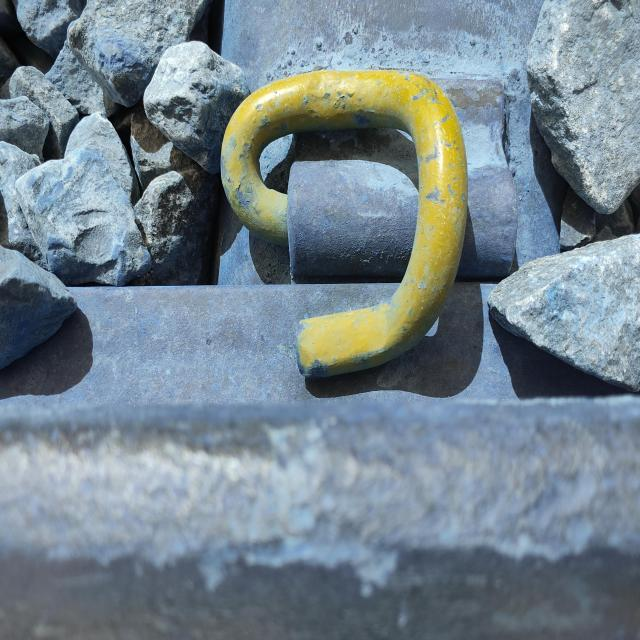Good Fasteners: (191, 1, 539, 400)
